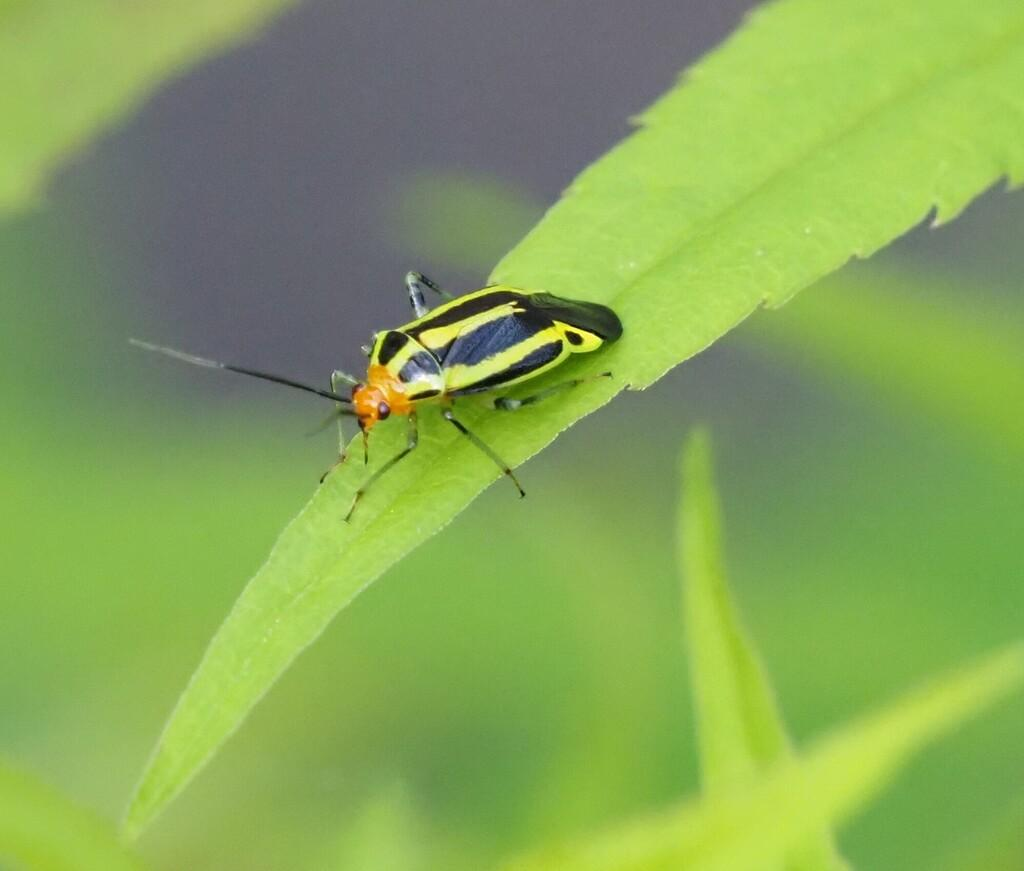plant_bugs: (83, 229, 674, 566)
